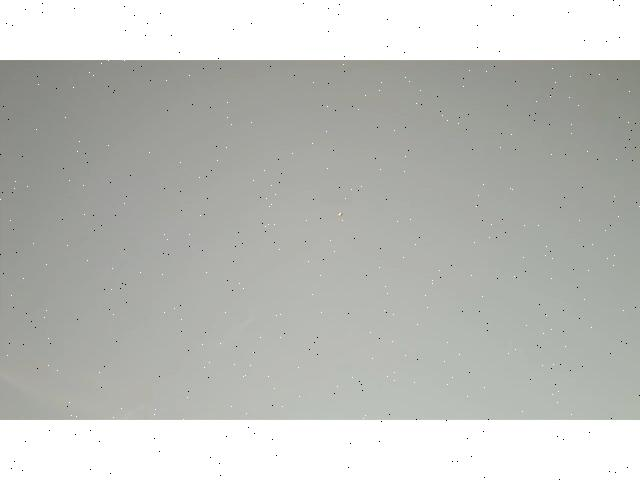Anti-Drone: (334, 208, 354, 221)
